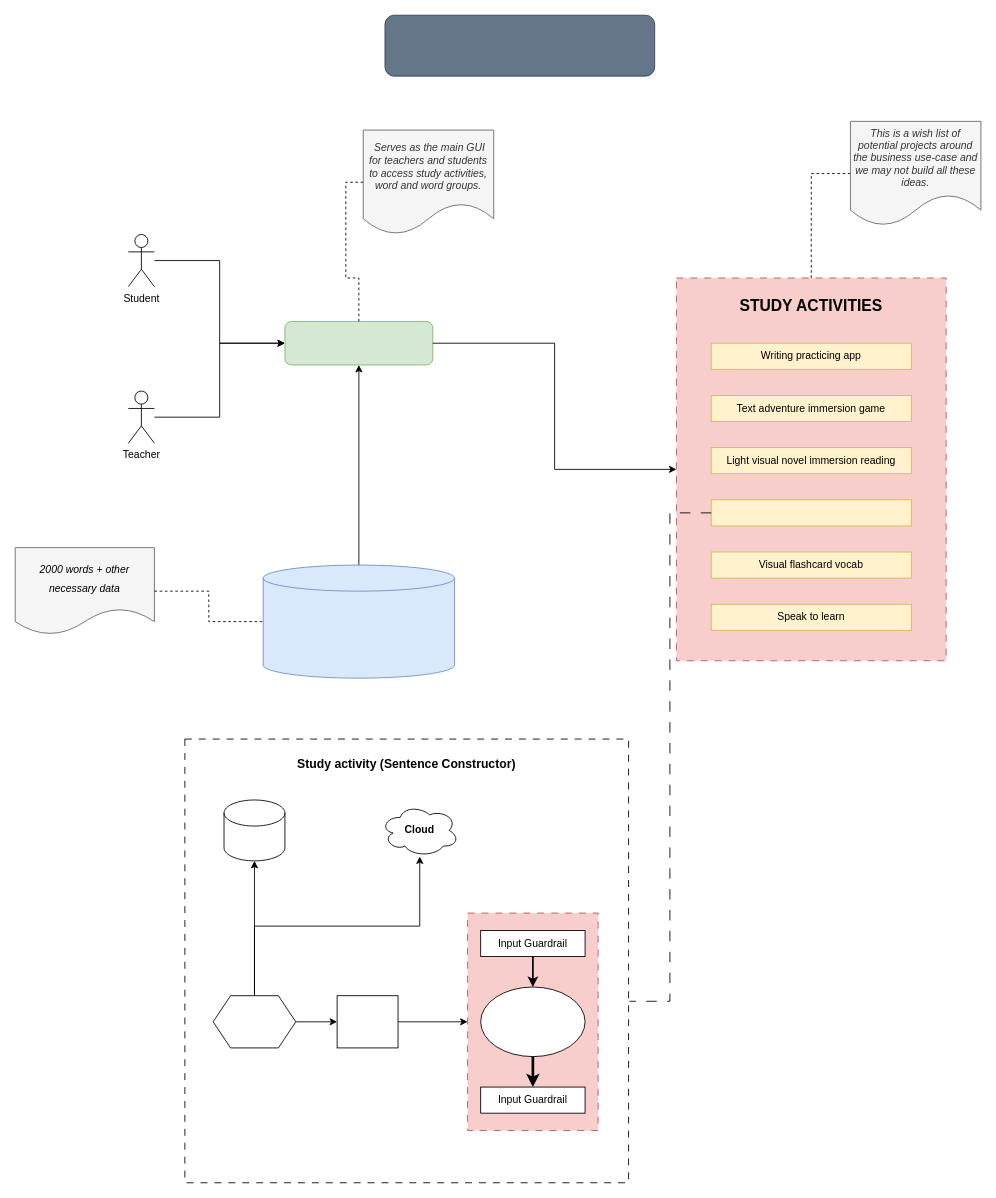
Image size: 996x1198. Some labels were removed from this diagram. The shapes that lost their labels are listed below. From the top down, each one's centre as x and y in pixels, then its label:
At point (519, 45): "CONCEPTUAL DIAGRAM".
At point (358, 343): "LANG PORTAL".
At point (810, 512): "Sentence constructor".
At point (358, 621): "Database".
At point (254, 830): "Vector DB".
At point (254, 1021): "RAG".
At point (367, 1021): "Prompt Cache".
At point (532, 1021): "LLM 7B".
